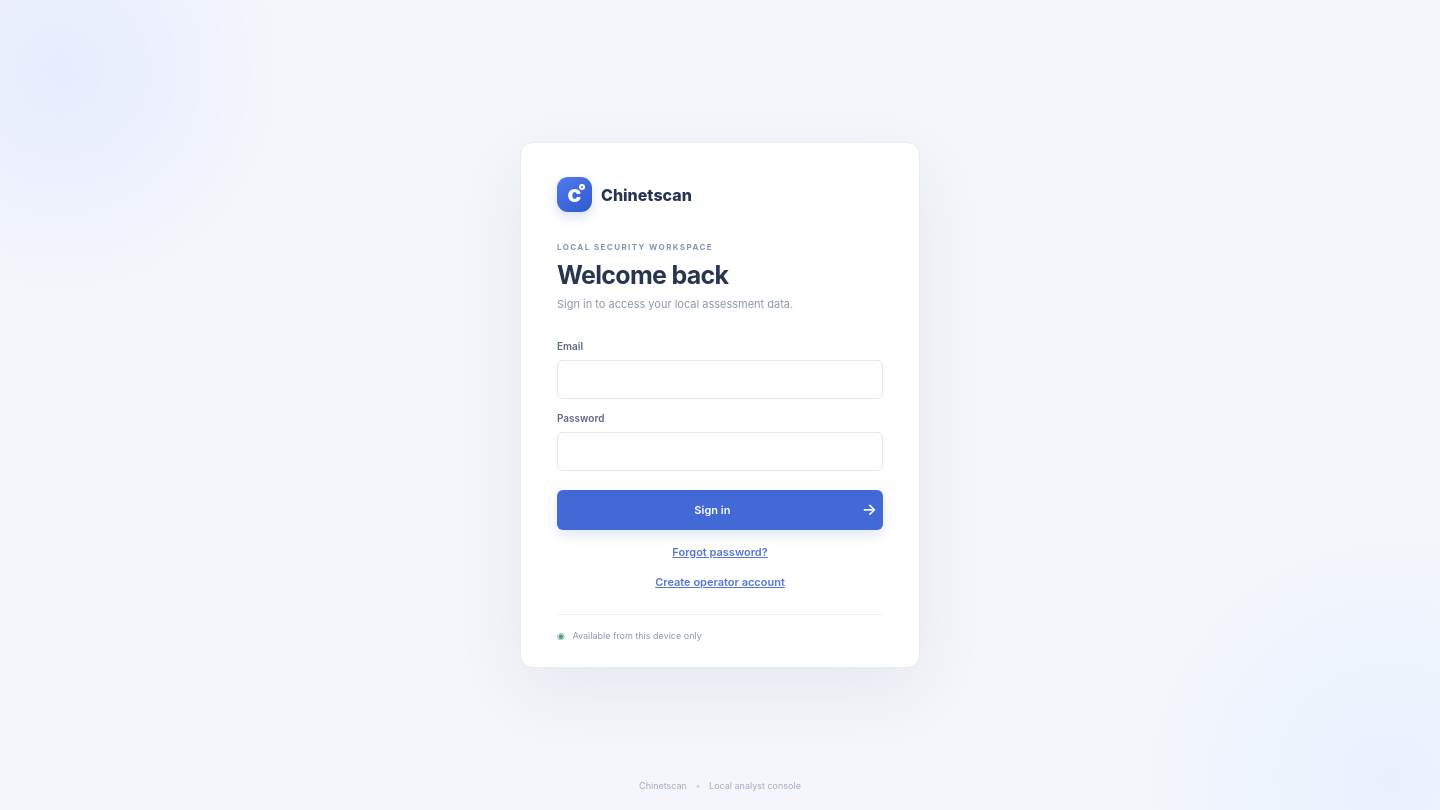
it: dashboard authentication and overview › shows sign in after an unauthorized session check and loads stored metrics after login
Check: the heading "Welcome back" is shown, box [557,260,728,290]
Check: the text "STORED SCANS" is not shown
Type "analyst@example.test" into the field labelled "Email".
click(720, 380); type("analyst@example.test")  # box [557,360,883,399]
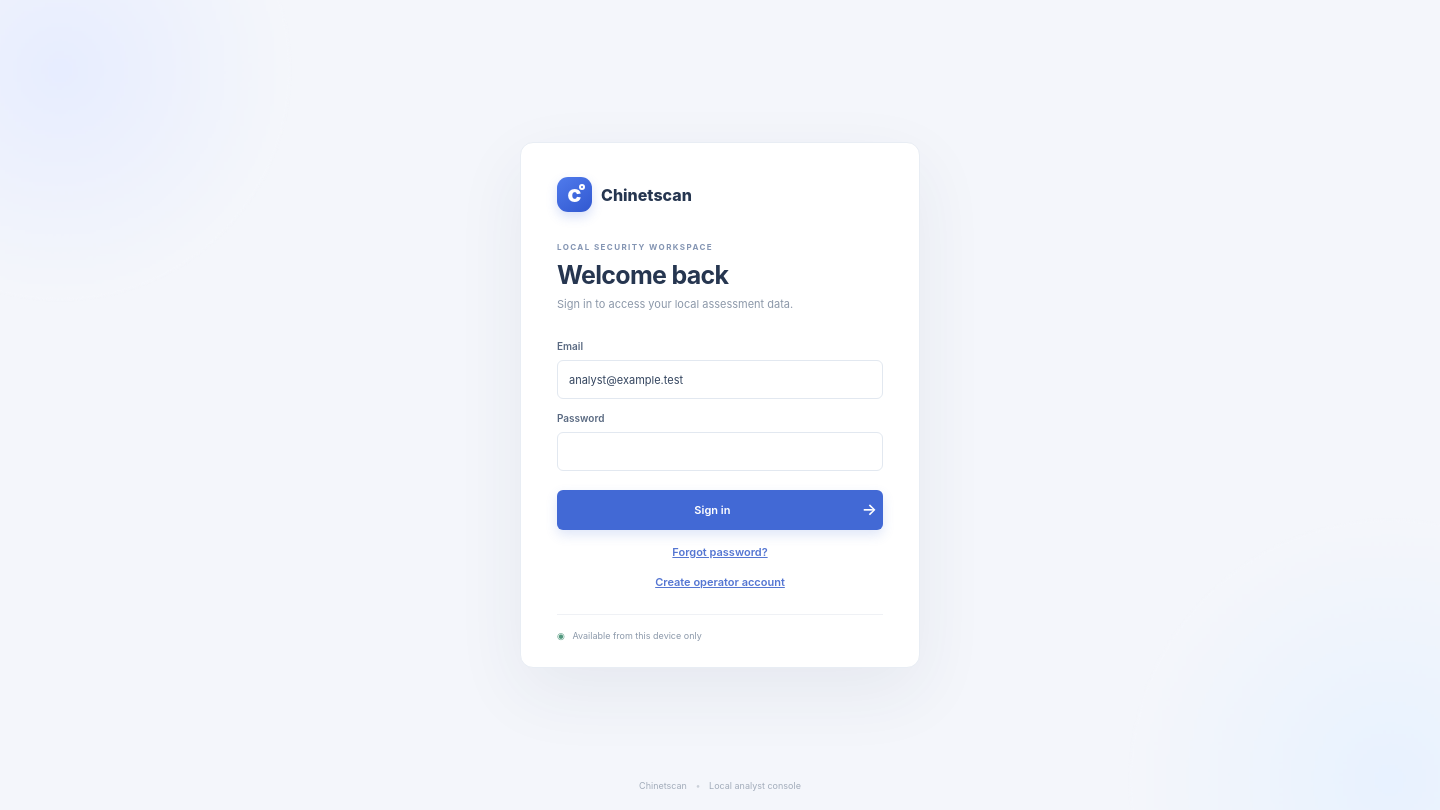
Type "safe local password" into the password field labelled "Password".
click(720, 452); type("safe local password")  # box [557,432,883,471]
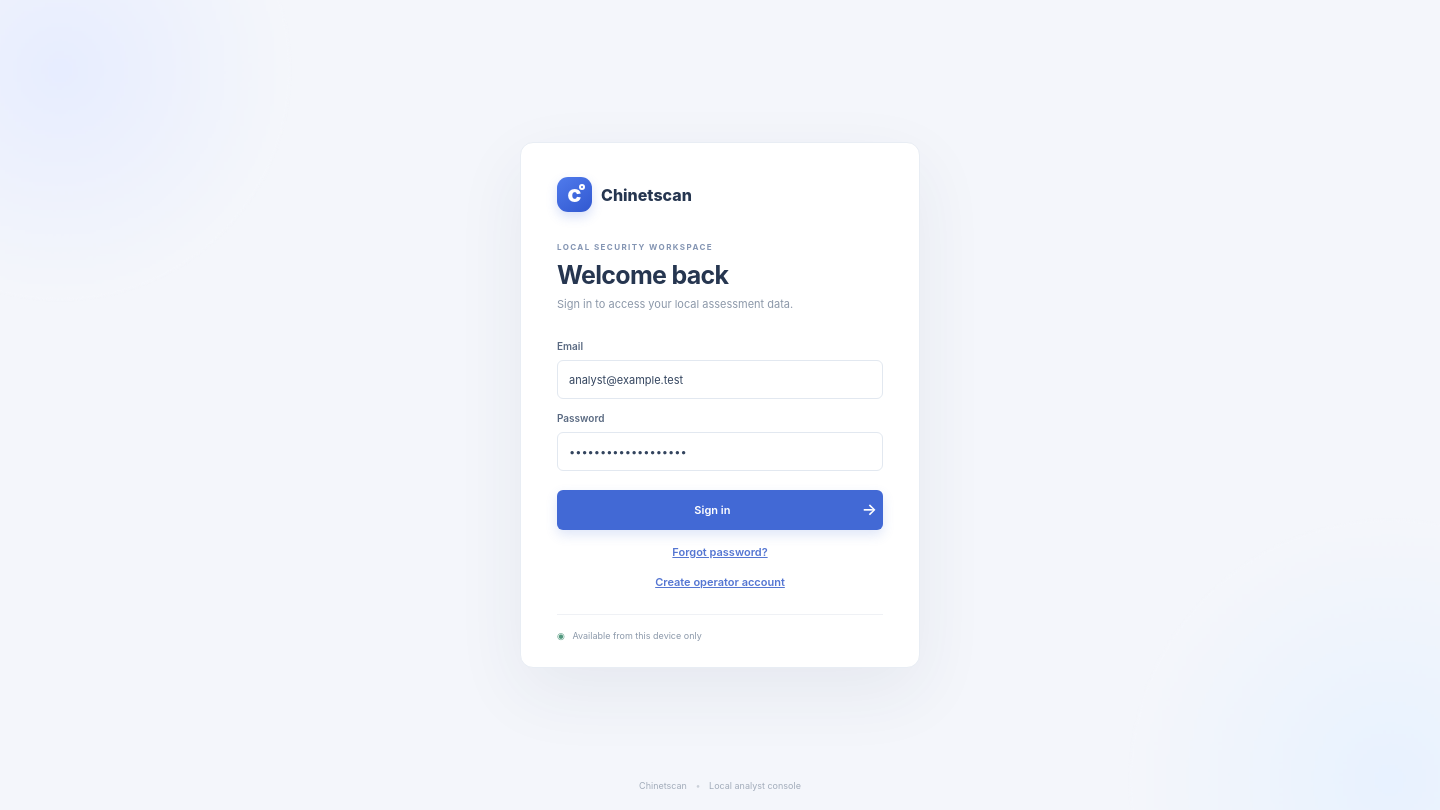
Click the button "Sign in →".
click(720, 510)  # box [557,490,883,530]
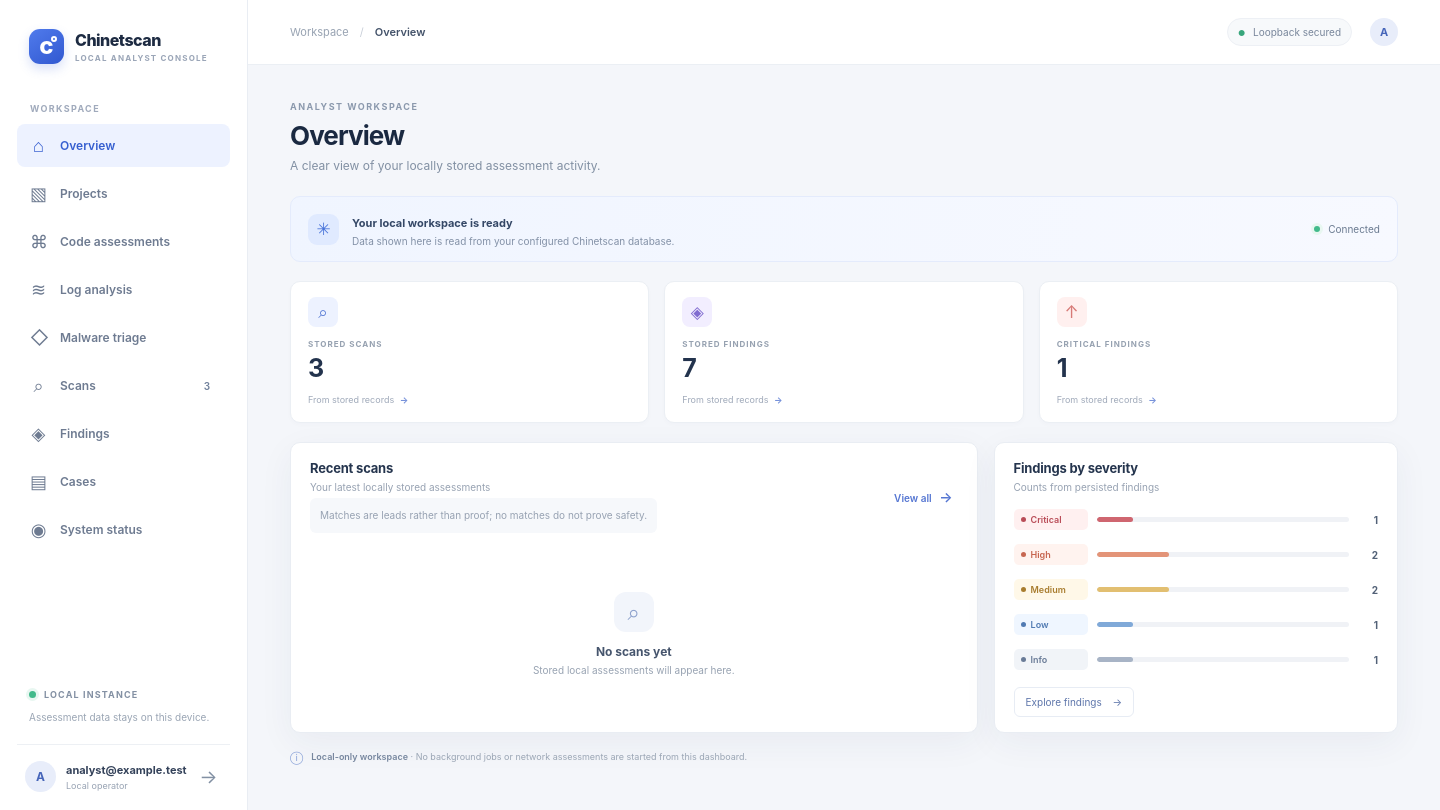
Check: the heading "Overview" is shown, box [290,120,404,151]
Check: the text "3" below "Your local workspace is ready" is shown, box [308,353,324,383]
Check: the text "7" is shown, box [682,353,697,383]
